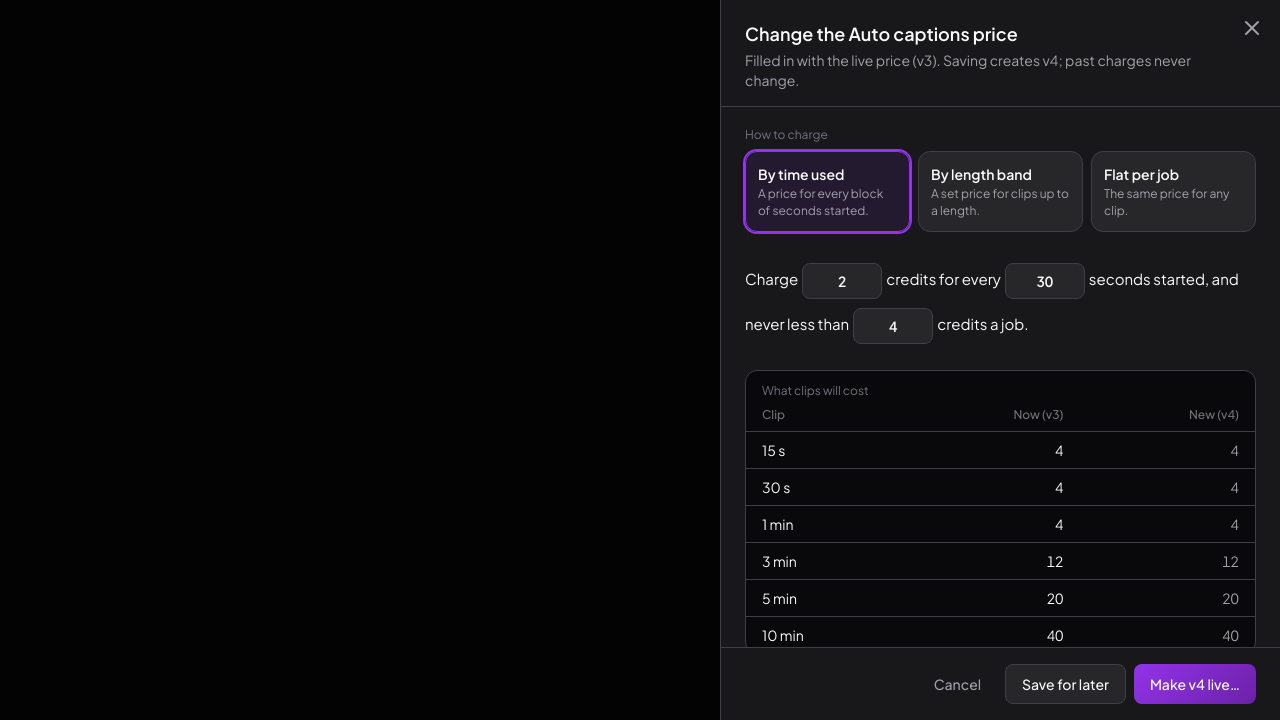
Test: ChangePriceSheet › disables saving and explains while the draft is invalid
Clear the field named "Credits per block". click: x=842, y=281
box: x1=802 y1=263 x2=882 y2=299
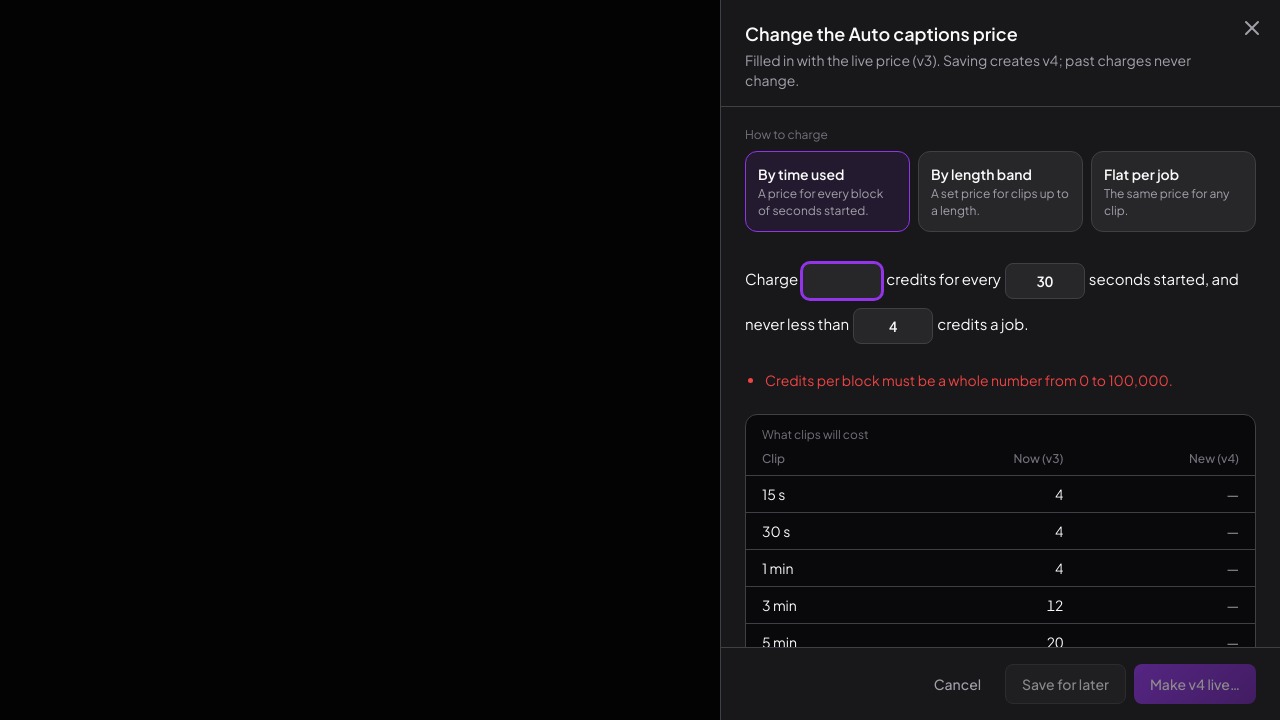
expect the button "Save for later" is disabled: met, box x1=1005 y1=664 x2=1126 y2=704
expect the button "Make v4 live…" is disabled: met, box x1=1134 y1=664 x2=1256 y2=704
expect the list item "Credits per block must be a whole number from 0 to 100,000." is shown: met, box x1=765 y1=371 x2=1173 y2=389
